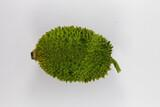spiny groud: (30, 24, 120, 83)
